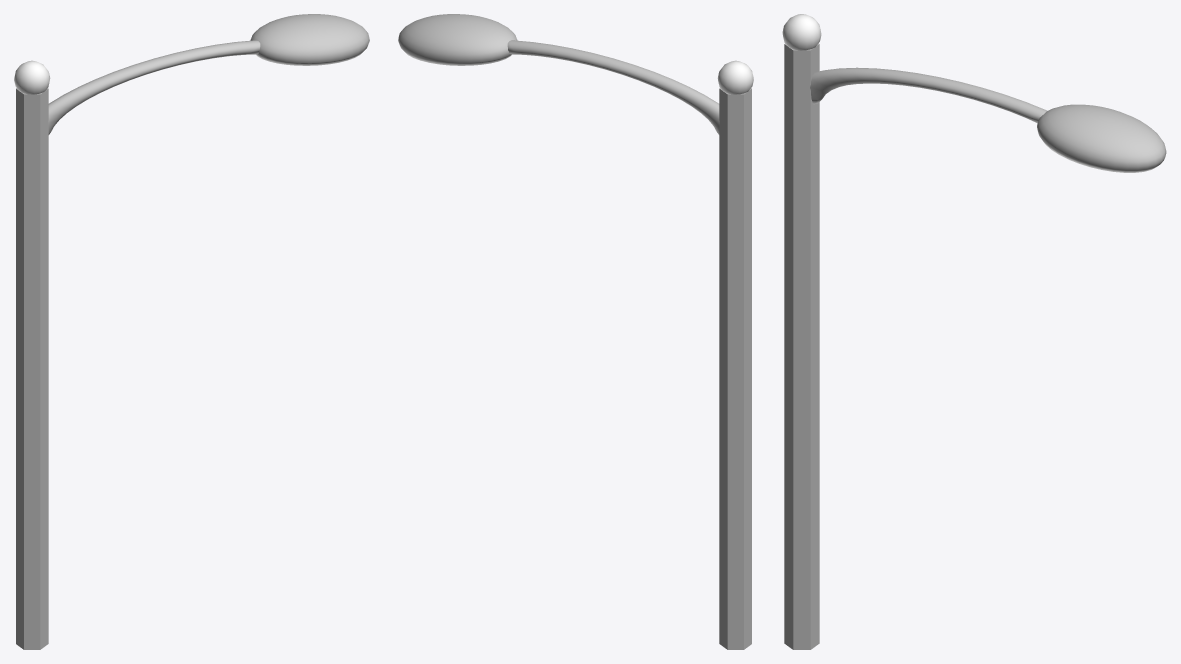
The model's file is Lamp.dae.
3 renders of one model, left to right at view 1: azimuth 30°, elevation 25°; view 2: azimuth 150°, elevation 25°; view 3: azimuth 330°, elevation 25°, orthographic. The views are drawn at different scales.
Parts seen in each view (by area): view 1: Pole, LightPart, Torus_001, Sphere; view 2: Pole, LightPart, Torus_001, Sphere; view 3: Pole, LightPart, Torus_001, Sphere.
Boxes of the visible parts, x1=… form: Pole: x1=16, y1=88, x2=48, y2=649; LightPart: x1=250, y1=14, x2=369, y2=65; Torus_001: x1=48, y1=40, x2=260, y2=134; Sphere: x1=14, y1=60, x2=50, y2=94; Pole: x1=719, y1=88, x2=751, y2=649; LightPart: x1=398, y1=14, x2=517, y2=65; Torus_001: x1=507, y1=40, x2=719, y2=134; Sphere: x1=717, y1=60, x2=753, y2=94; Pole: x1=784, y1=43, x2=819, y2=649; LightPart: x1=1037, y1=104, x2=1166, y2=172; Torus_001: x1=810, y1=67, x2=1047, y2=123; Sphere: x1=782, y1=14, x2=821, y2=50.
Bounding box in the file's own units: 9.13 × 2 × 14.53.
